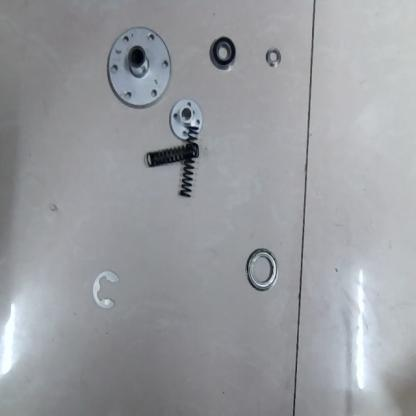FOD: (106, 25, 172, 110), (242, 245, 281, 296), (177, 121, 201, 201), (168, 94, 206, 140), (142, 141, 201, 169), (90, 267, 123, 313), (208, 34, 238, 71), (264, 44, 283, 70)
